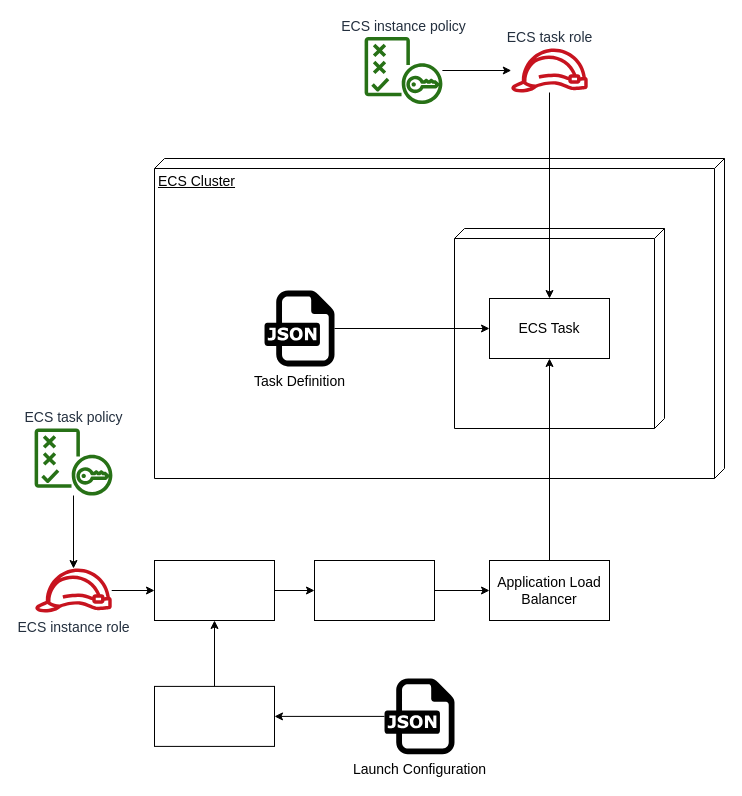
Some shapes in this 742 by 796 pixel diagram are drawn without their labels. The shapes that lost their labels are listed below. From the top down, each one's box as (x1, y1, x2, y2) in pixels, then its label:
(454, 228, 664, 428): ECS Service
(154, 560, 274, 620): EC2
(314, 560, 434, 620): Target Group
(154, 685, 274, 746): Auto Scaling Group
